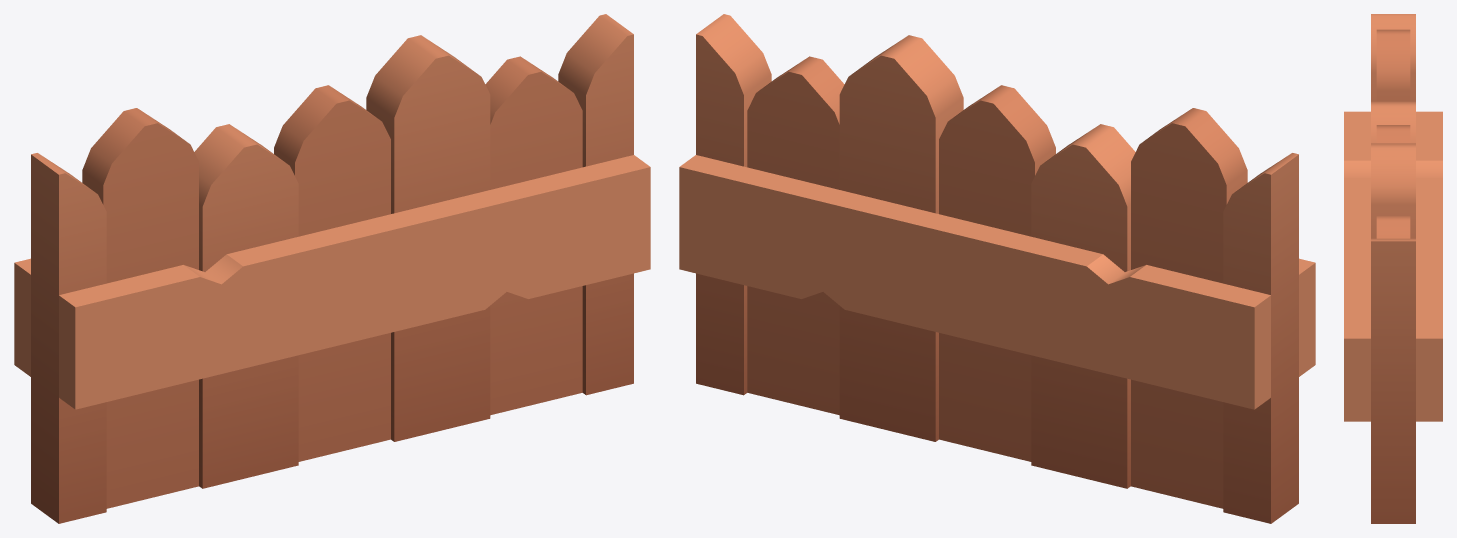
The model's file is fence.glb.
3 renders of one model, left to right at view 1: azimuth 30°, elevation 25°; view 2: azimuth 150°, elevation 25°; view 3: azimuth 270°, elevation 25°, orthographic. The views are drawn at different scales.
Visible parts, largest first — view 1: fence; view 2: fence; view 3: fence.
Boxes of the visible parts, bbox=[...] form: fence: bbox=[14, 14, 650, 523]; fence: bbox=[679, 14, 1315, 523]; fence: bbox=[1344, 14, 1442, 523].
Size of the model in its own units: 20 by 12.4 by 3.68.
1 material, 1 textured.
